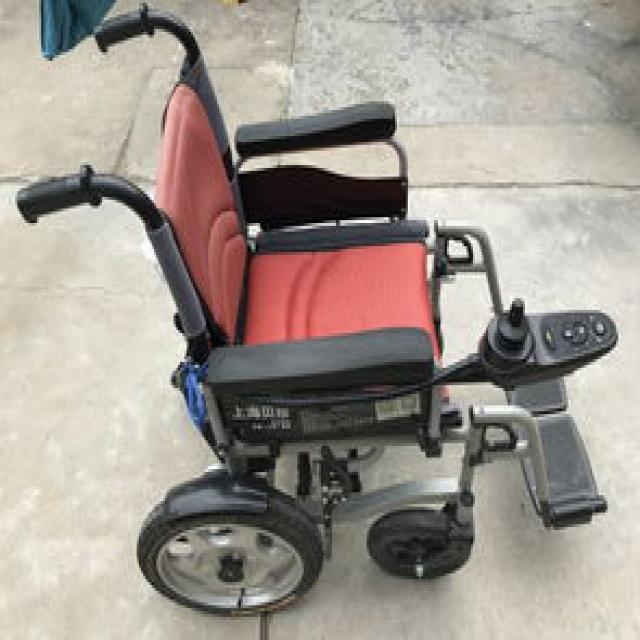wheelchair: (15, 3, 618, 614)
